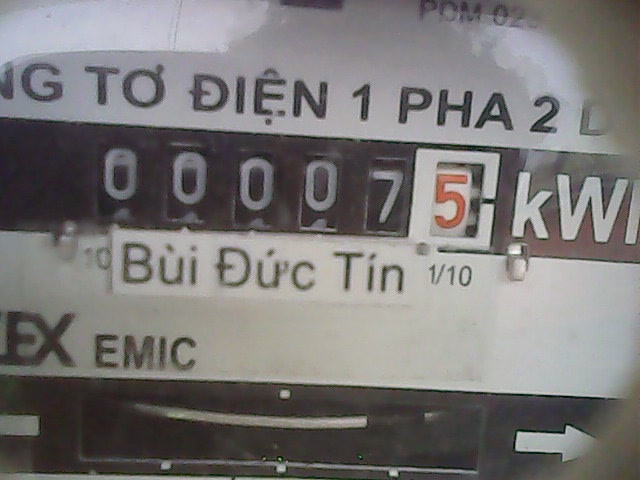phy_plate: (82, 123, 506, 255)
